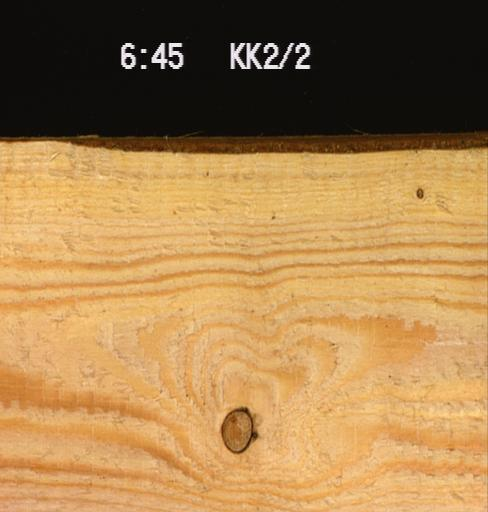dry_knot: (218, 406, 254, 454)
wave: (0, 130, 487, 154)
